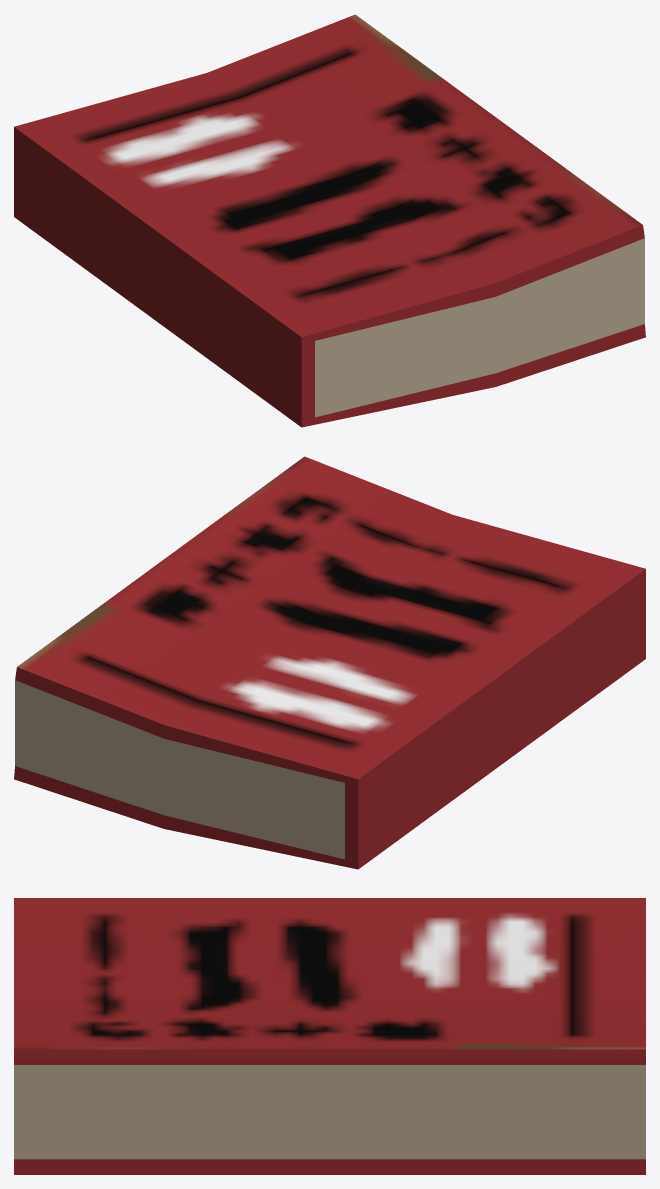
Rendered from SM_Prop_Book_01.glb.
3 renders of one model, top to bottom at view 1: azimuth 30°, elevation 25°; view 2: azimuth 150°, elevation 25°; view 3: azimuth 270°, elevation 25°, orthographic. The views are drawn at different scales.
Visible parts, largest first — view 1: SM_Prop_Book_01; view 2: SM_Prop_Book_01; view 3: SM_Prop_Book_01.
Part boxes in pixels (box(x1,y1,x2,y2)): SM_Prop_Book_01: box(14, 14, 645, 427); SM_Prop_Book_01: box(14, 456, 645, 869); SM_Prop_Book_01: box(14, 898, 645, 1174).
Size of the model in its own units: 0.2318 by 0.0811 by 0.3354.
1 material, 1 textured.
